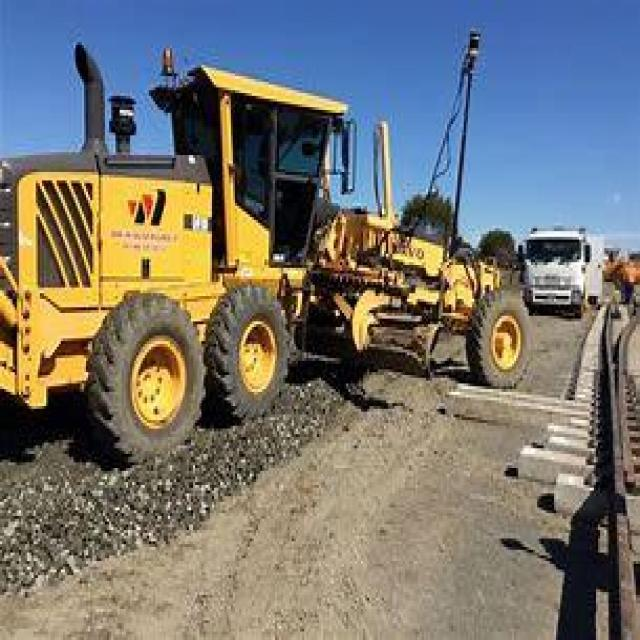Grader: (2, 45, 550, 460)
